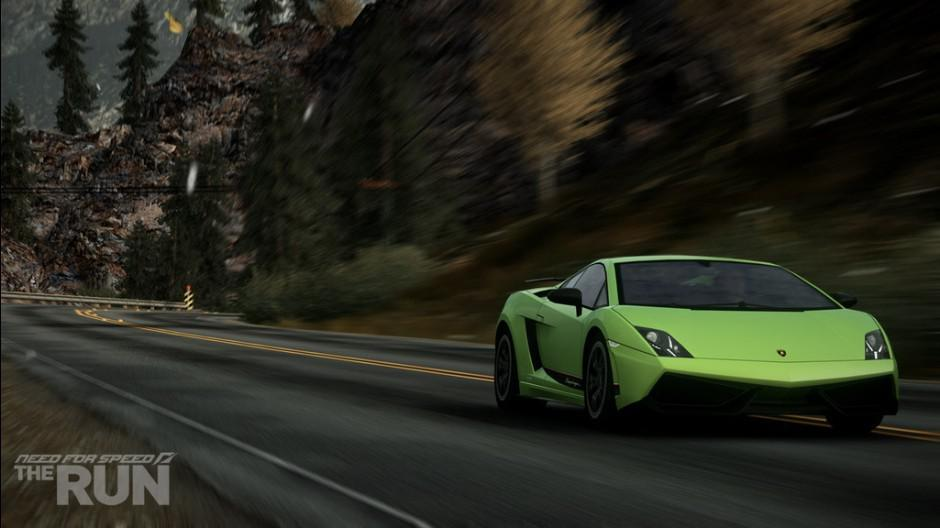Car: (489, 216, 914, 454)
